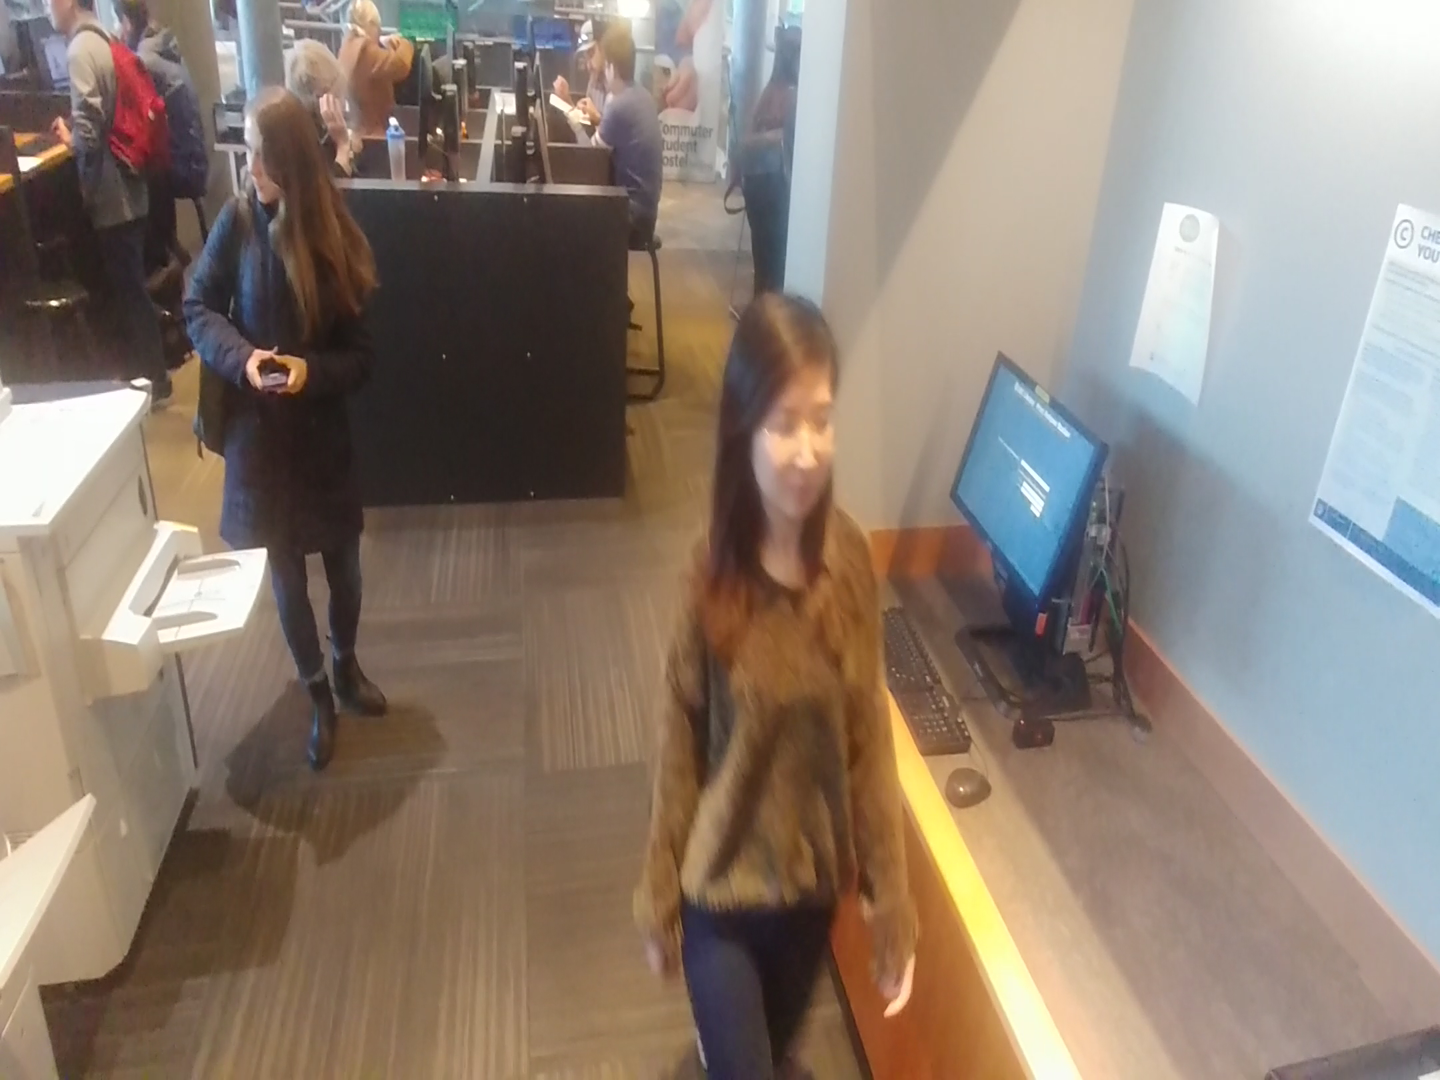face: (688, 270, 848, 590), (224, 76, 341, 222), (597, 22, 644, 102), (563, 5, 607, 84), (341, 0, 393, 43)
human: (628, 273, 932, 1080), (181, 79, 405, 778), (36, 0, 175, 415), (726, 18, 809, 300), (114, 0, 218, 212), (596, 25, 671, 263), (324, 0, 416, 143)
